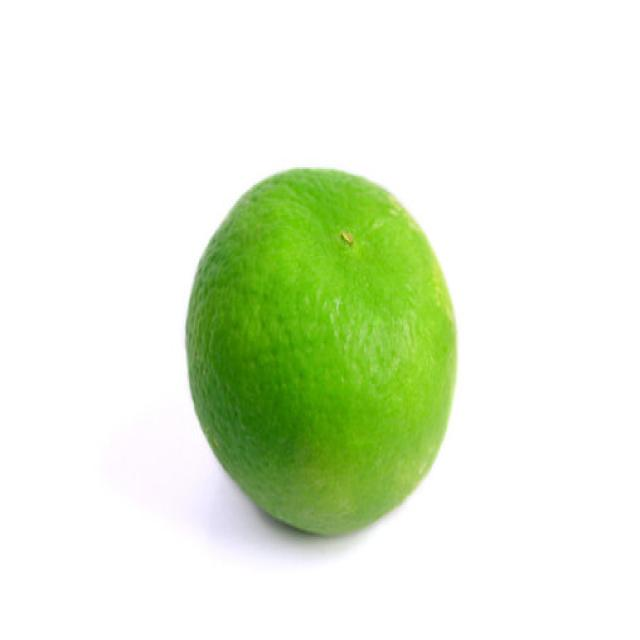Lemon: (184, 163, 459, 537)
